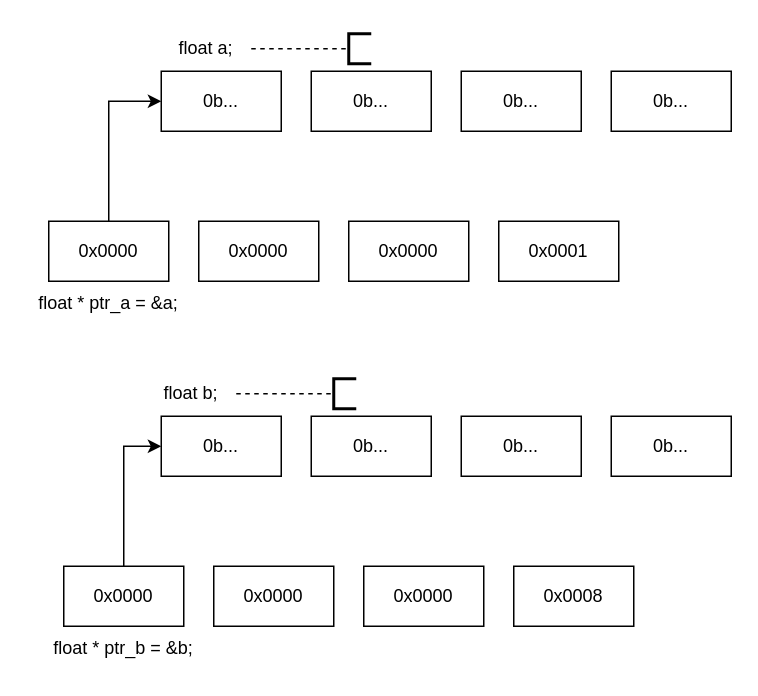
Image size: 758x696. Some labels were removed from this diagram. The shapes that lost their labels are listed below. From the top down, each one's centre as x and y in pixels, then its label:
At pixel 359 48: "cin >> a;".
At pixel 344 393: "cin >> b;".
